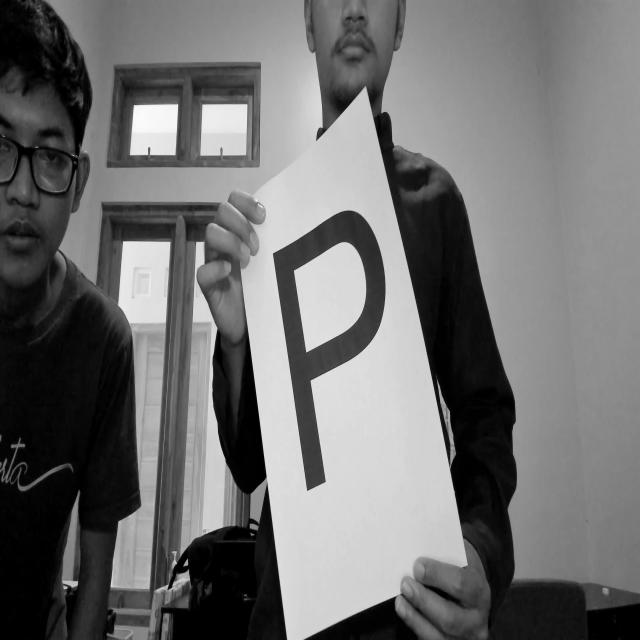p: (268, 201, 397, 501)
